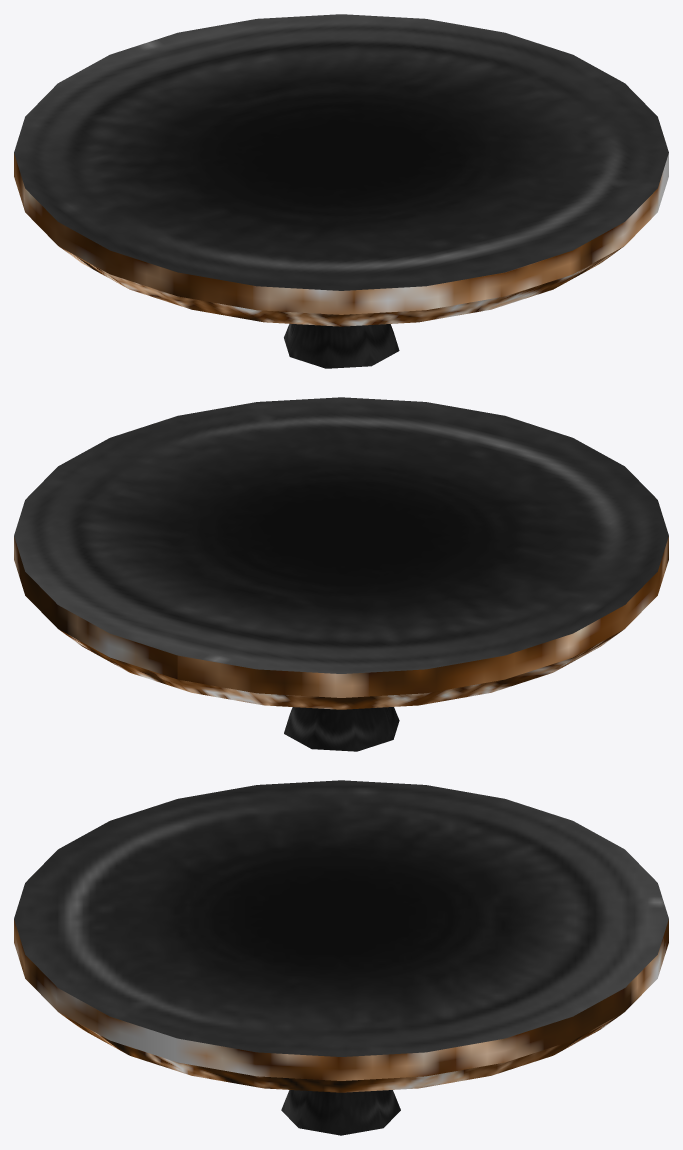
File: engine.DAE
3 views of the same model, one above another, from view 1: azimuth 30°, elevation 25°; view 2: azimuth 150°, elevation 25°; view 3: azimuth 270°, elevation 25° (orthographic).
Parts seen in each view (by area): view 1: Cylinder01-Pivot; view 2: Cylinder01-Pivot; view 3: Cylinder01-Pivot.
Part boxes in pixels (box(x1,y1,x2,y2)): Cylinder01-Pivot: box(14, 14, 668, 368); Cylinder01-Pivot: box(14, 397, 668, 751); Cylinder01-Pivot: box(14, 780, 668, 1135).
Size of what is drawn, in the model's own units: 0.5217 by 0.1684 by 0.5217.
